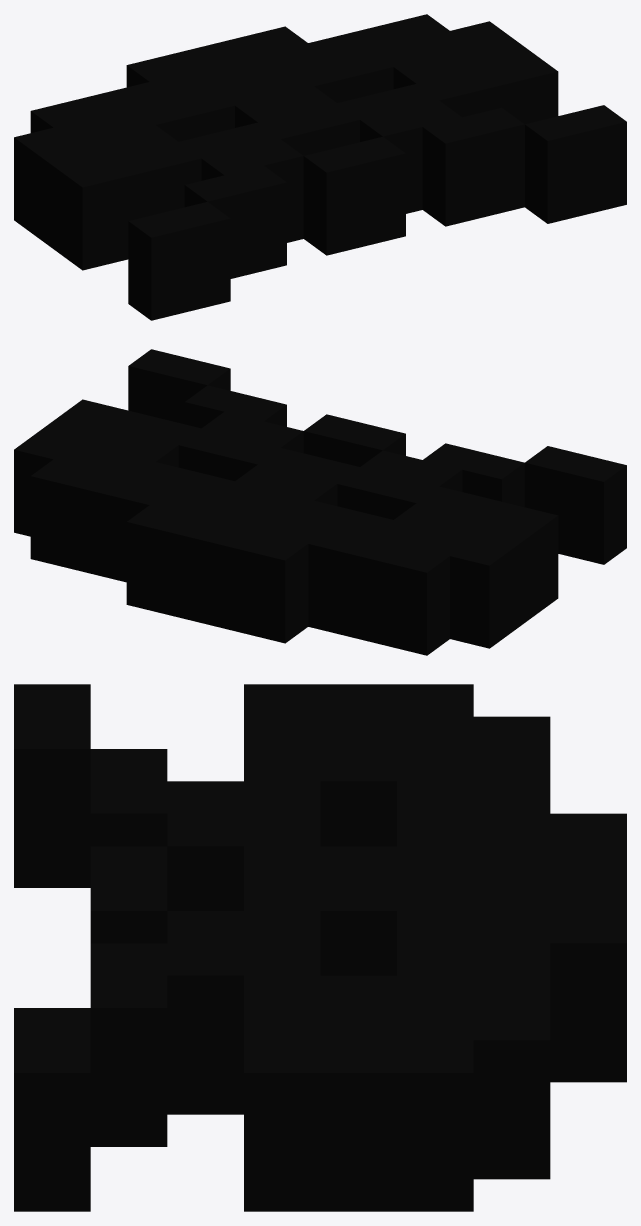
File: ennemi3.FBX
3 views of the same model, one above another, from view 1: azimuth 30°, elevation 25°; view 2: azimuth 150°, elevation 25°; view 3: azimuth 270°, elevation 25° (orthographic). The views are drawn at different scales.
Visible parts, largest first — view 1: ennemi3; view 2: ennemi3; view 3: ennemi3.
Part boxes in pixels (x1,y1,x2,y2): ennemi3: [14, 14, 626, 320]; ennemi3: [14, 349, 626, 655]; ennemi3: [14, 684, 626, 1211].
Size of the model in its own units: 2.4 by 0.4 by 1.6.
1 material, 1 textured.
